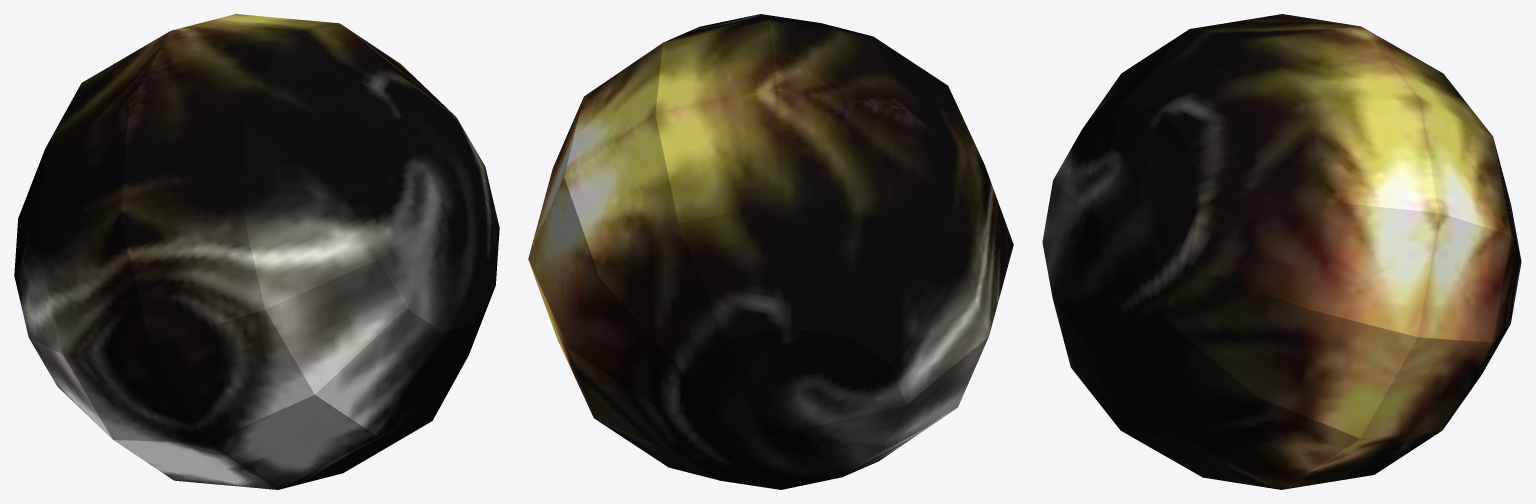
File: ITMI_DARKPEARL.glb
The picture shows the model from 3 angles, left to right: view 1: azimuth 30°, elevation 25°; view 2: azimuth 150°, elevation 25°; view 3: azimuth 270°, elevation 25°; orthographic projection.
Visible parts, largest first — view 1: ITMI_DARKPEARL; view 2: ITMI_DARKPEARL; view 3: ITMI_DARKPEARL.
Part boxes in pixels (x1,y1,x2,y2): ITMI_DARKPEARL: (14,14,499,489); ITMI_DARKPEARL: (528,14,1013,489); ITMI_DARKPEARL: (1042,14,1521,489).
Bounding box in the file's own units: 0.0975 × 0.0993 × 0.0984.
Materials: 1 (1 with a texture image).
